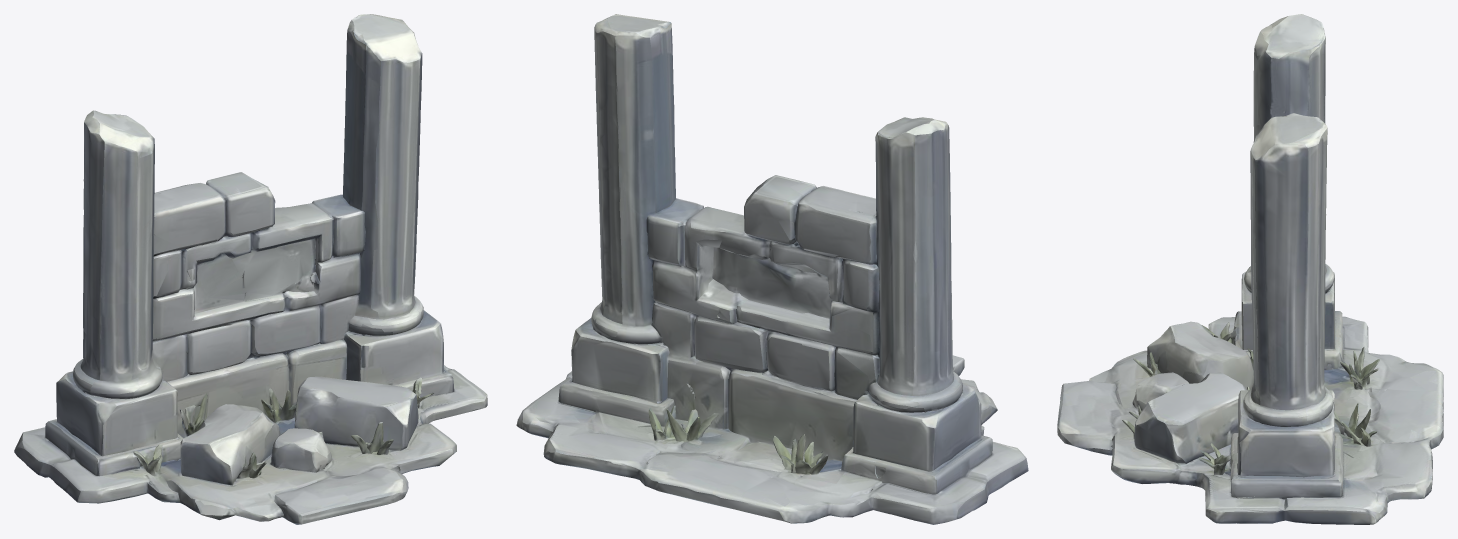
The model's file is ruins_pillar_v1_fused.glb.
The picture shows the model from 3 angles, left to right: view 1: azimuth 30°, elevation 25°; view 2: azimuth 150°, elevation 25°; view 3: azimuth 270°, elevation 25°; orthographic projection. The views are drawn at different scales.
Visible parts, largest first — view 1: geometry_0; view 2: geometry_0; view 3: geometry_0.
Part boxes in pixels (x1=…): geometry_0: x1=14, y1=14, x2=487, y2=524; geometry_0: x1=516, y1=14, x2=1028, y2=524; geometry_0: x1=1057, y1=14, x2=1443, y2=524.
Bounding box in the file's own units: 1.72 × 1.5 × 1.42.
1 material, 1 textured.
